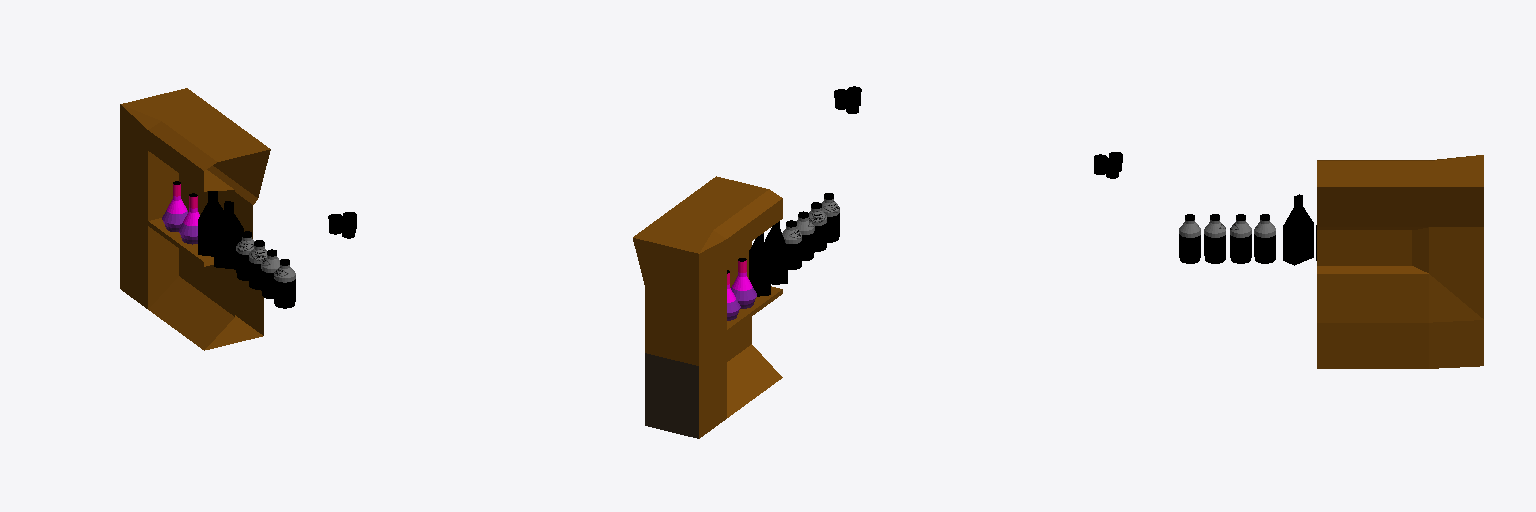
The picture shows the model from 3 angles: view 1: azimuth 30°, elevation 25°; view 2: azimuth 150°, elevation 25°; view 3: azimuth 270°, elevation 25°; orthographic projection.
Visible parts, largest first — view 1: pCube1, pCube4, pCube3, pCylinder12, pCylinder1, pCylinder9, pCylinder11, pCylinder3, pCylinder10; view 2: pCube1, pCube3, pCube4, pCylinder9, pCylinder3, pCylinder12, pCylinder10, pCylinder11; view 3: pCube1, pCube4, pCylinder3, pCylinder10, pCylinder11, pCylinder12.
Boxes of the visible parts, x1=… form: pCube1: x1=120, y1=88, x2=270, y2=350; pCube4: x1=214, y1=201, x2=243, y2=269; pCube3: x1=198, y1=191, x2=223, y2=256; pCylinder12: x1=274, y1=259, x2=295, y2=308; pCylinder1: x1=162, y1=181, x2=187, y2=231; pCylinder9: x1=179, y1=193, x2=199, y2=244; pCylinder11: x1=261, y1=249, x2=279, y2=298; pCylinder3: x1=236, y1=231, x2=254, y2=280; pCylinder10: x1=249, y1=240, x2=266, y2=289; pCube1: x1=633, y1=176, x2=782, y2=438; pCube3: x1=749, y1=233, x2=770, y2=296; pCube4: x1=765, y1=221, x2=787, y2=284; pCylinder9: x1=731, y1=258, x2=756, y2=308; pCylinder3: x1=782, y1=220, x2=801, y2=269; pCylinder12: x1=821, y1=193, x2=839, y2=242; pCylinder10: x1=796, y1=211, x2=814, y2=260; pCylinder11: x1=809, y1=202, x2=826, y2=251; pCube1: x1=1317, y1=155, x2=1483, y2=368; pCube4: x1=1283, y1=194, x2=1313, y2=265; pCylinder3: x1=1254, y1=214, x2=1275, y2=263; pCylinder10: x1=1230, y1=214, x2=1251, y2=263; pCylinder11: x1=1204, y1=214, x2=1225, y2=263; pCylinder12: x1=1179, y1=214, x2=1200, y2=263.
Size of the model in its own units: 0.3766 by 1.08 by 2.
Materials: 5 (3 with a texture image).